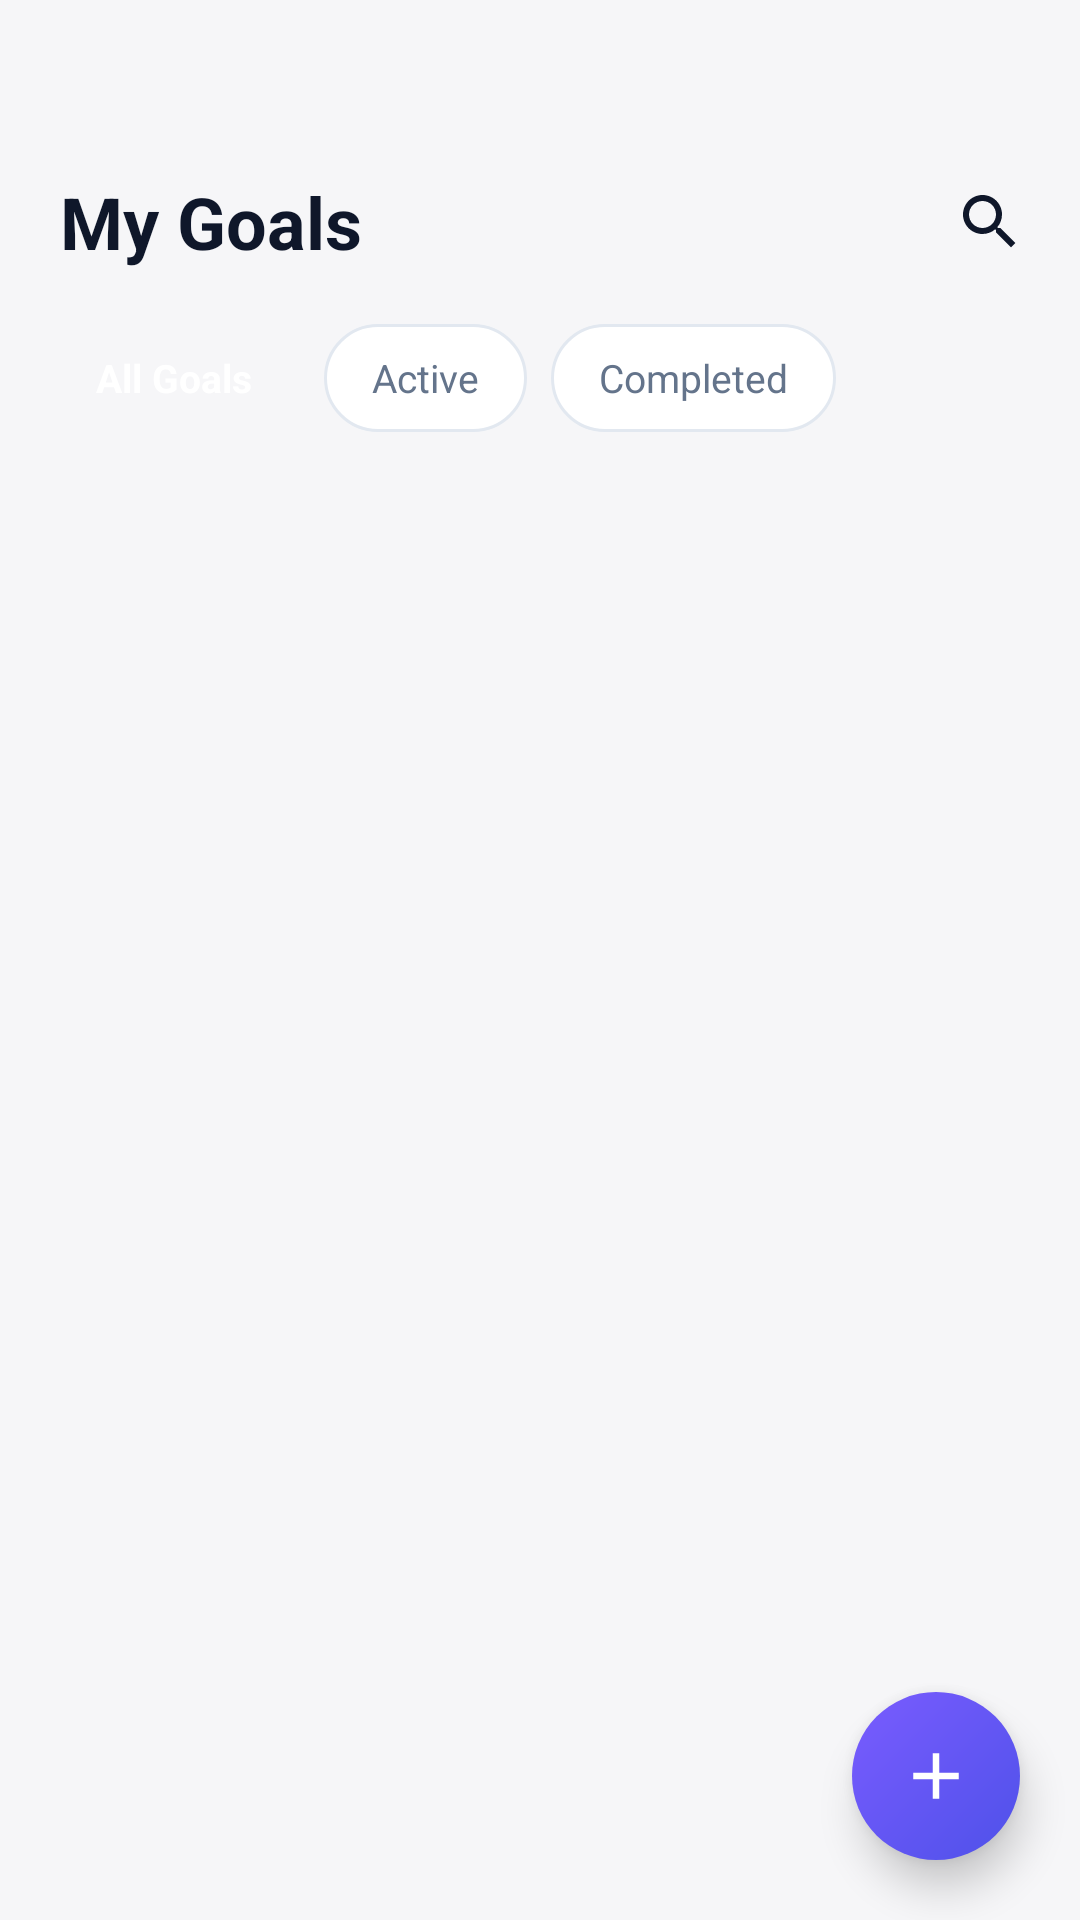

Icon click points for this 1080x1920 phone screenshot, format (x,y):
add: (936,1776)
search: (989,221)
